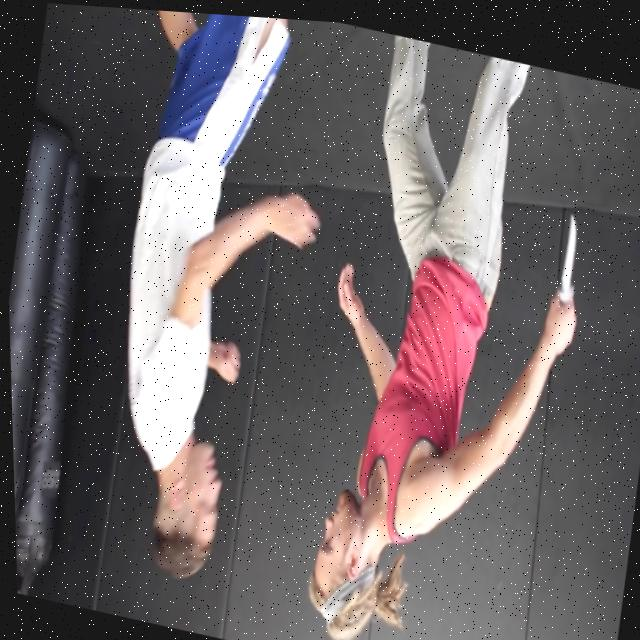knife: (548, 204, 587, 298)
